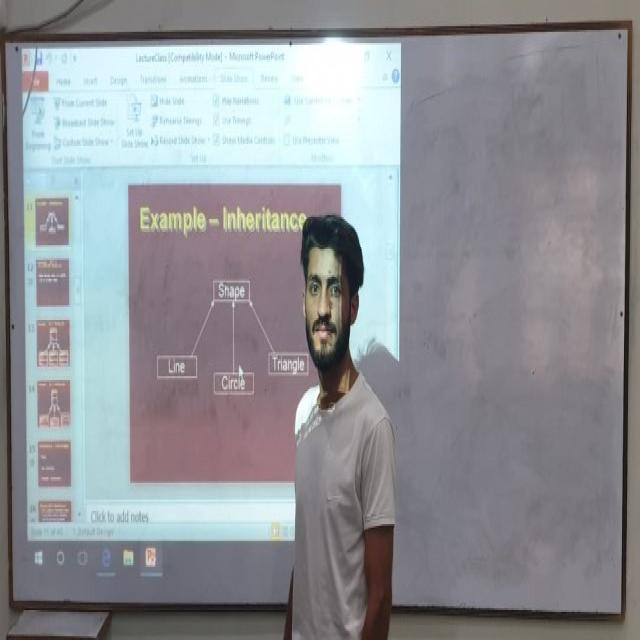Instructor: (274, 183, 394, 633)
Slide: (22, 41, 401, 576)
White-board: (5, 23, 631, 618)
